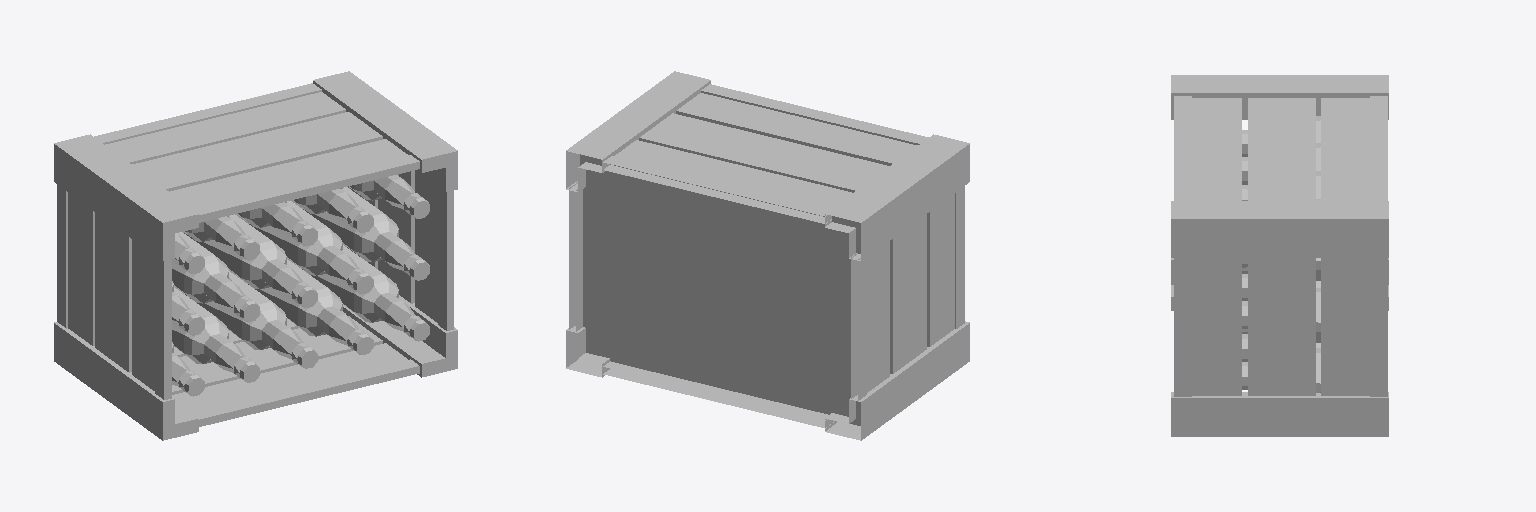
The model's file is caseofbeer.obj.
3 renders of one model, left to right at view 1: azimuth 30°, elevation 25°; view 2: azimuth 150°, elevation 25°; view 3: azimuth 270°, elevation 25°, orthographic.
Parts seen in each view (by area): view 1: caseofbeer; view 2: caseofbeer; view 3: caseofbeer.
Part boxes in pixels (x1,y1,x2,y2): caseofbeer: (54, 71, 457, 440); caseofbeer: (566, 71, 969, 440); caseofbeer: (1171, 75, 1388, 436).
Bounding box in the file's own units: 17.07 × 12.02 × 10.89.